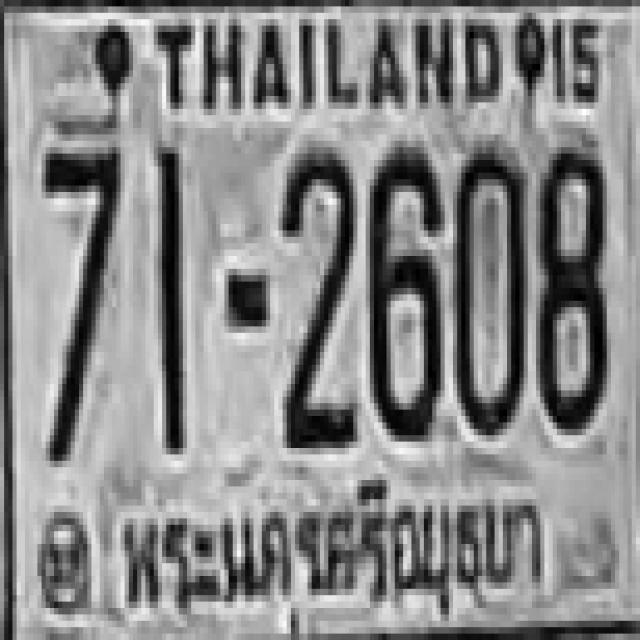0: (453, 141, 524, 429)
1: (154, 144, 183, 451), (154, 144, 183, 445)
2: (280, 144, 356, 445), (278, 141, 354, 416)
6: (368, 141, 438, 435)
7: (42, 144, 116, 458), (42, 144, 116, 419), (42, 144, 116, 355)
8: (536, 141, 603, 429)
Ayutthaya: (118, 481, 549, 631)
